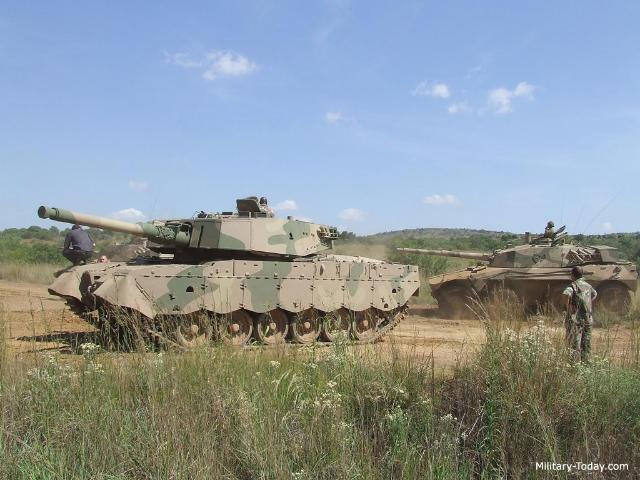other: (564, 261, 596, 347), (59, 225, 93, 263), (542, 217, 558, 235)
tank: (62, 210, 420, 352), (434, 243, 636, 320)
